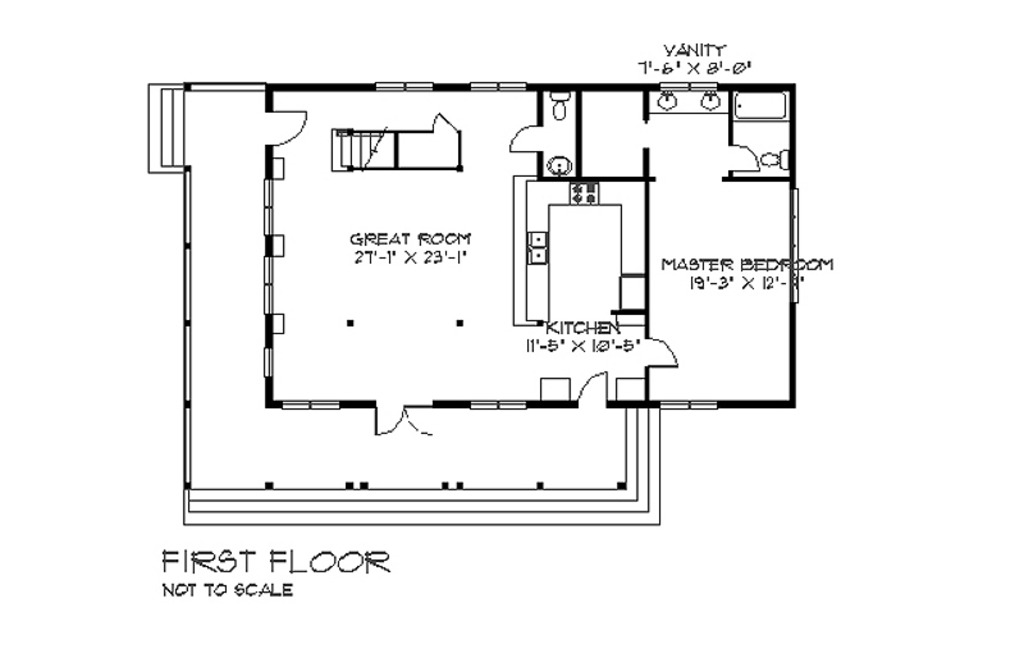door: (365, 399, 435, 438), (259, 103, 315, 147), (503, 113, 548, 156), (576, 365, 611, 413), (646, 334, 687, 373), (728, 139, 761, 177)
large_sink: (550, 85, 581, 124), (755, 145, 788, 173)
small_sink: (654, 86, 731, 118), (545, 149, 579, 182)
stairs: (326, 114, 430, 178)
tub: (734, 89, 790, 122)
twin_sink: (525, 222, 546, 282)
window: (465, 75, 529, 98), (370, 76, 435, 96), (281, 391, 339, 412), (656, 75, 724, 91), (466, 396, 529, 413), (260, 255, 278, 312), (658, 396, 707, 412), (263, 176, 275, 236)
